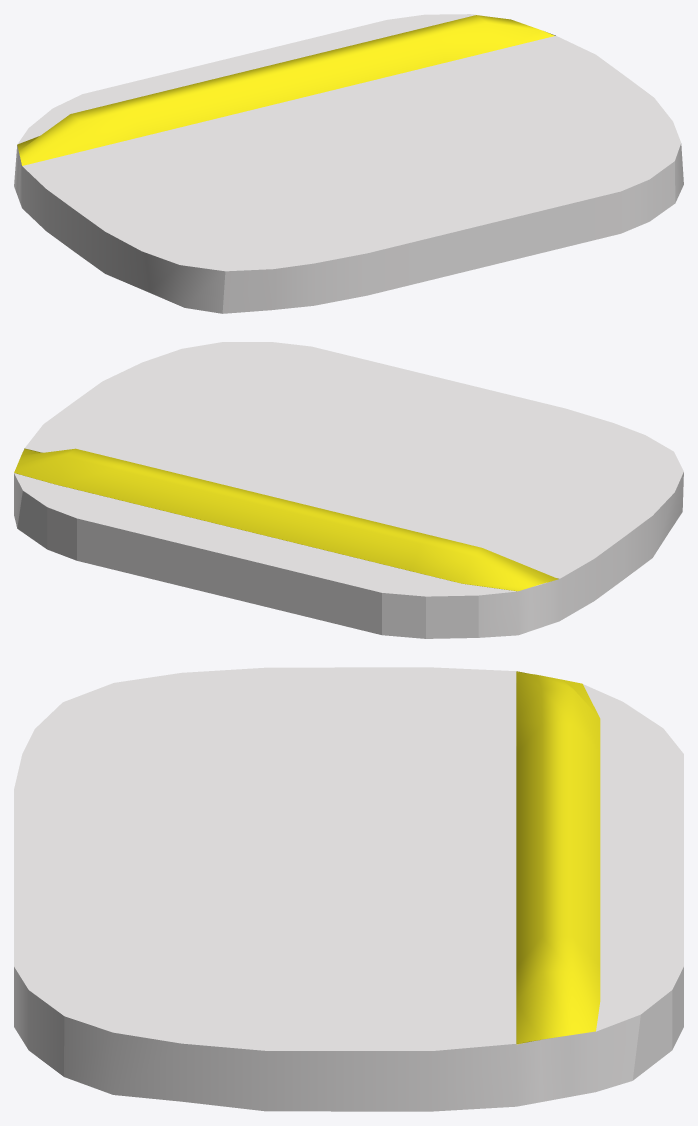
Rendered from key card molel yelo.fbx.
The picture shows the model from 3 angles, top to bottom: view 1: azimuth 30°, elevation 25°; view 2: azimuth 150°, elevation 25°; view 3: azimuth 270°, elevation 25°; orthographic projection. The views are drawn at different scales.
Visible parts, largest first — view 1: pPlane1; view 2: pPlane1; view 3: pPlane1.
Boxes of the visible parts, x1=… form: pPlane1: x1=14, y1=14, x2=683, y2=313; pPlane1: x1=14, y1=342, x2=683, y2=638; pPlane1: x1=14, y1=667, x2=683, y2=1111.
Size of the model in its own units: 6.18 by 0.6778 by 4.56.
Materials: 1 (1 with a texture image).
